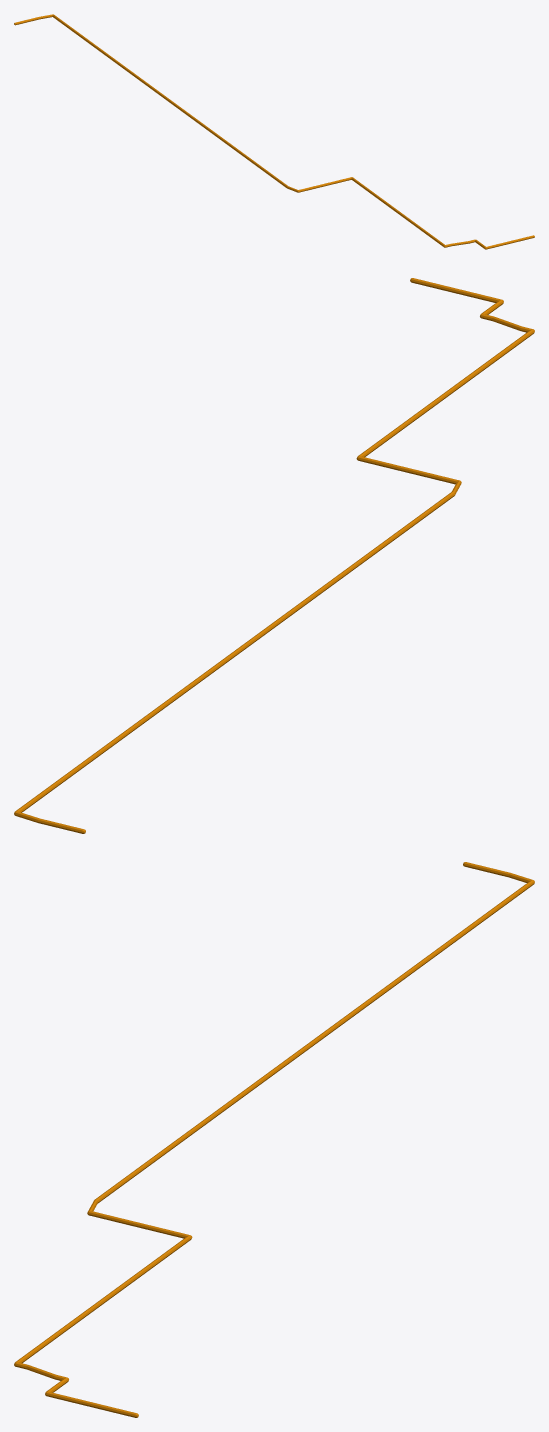
3 views of the same model, one above another, from view 1: azimuth 30°, elevation 25°; view 2: azimuth 150°, elevation 25°; view 3: azimuth 330°, elevation 25° (orthographic). The views are drawn at different scales.
Size of the model in its own units: 1450 by 20 by 5059.
